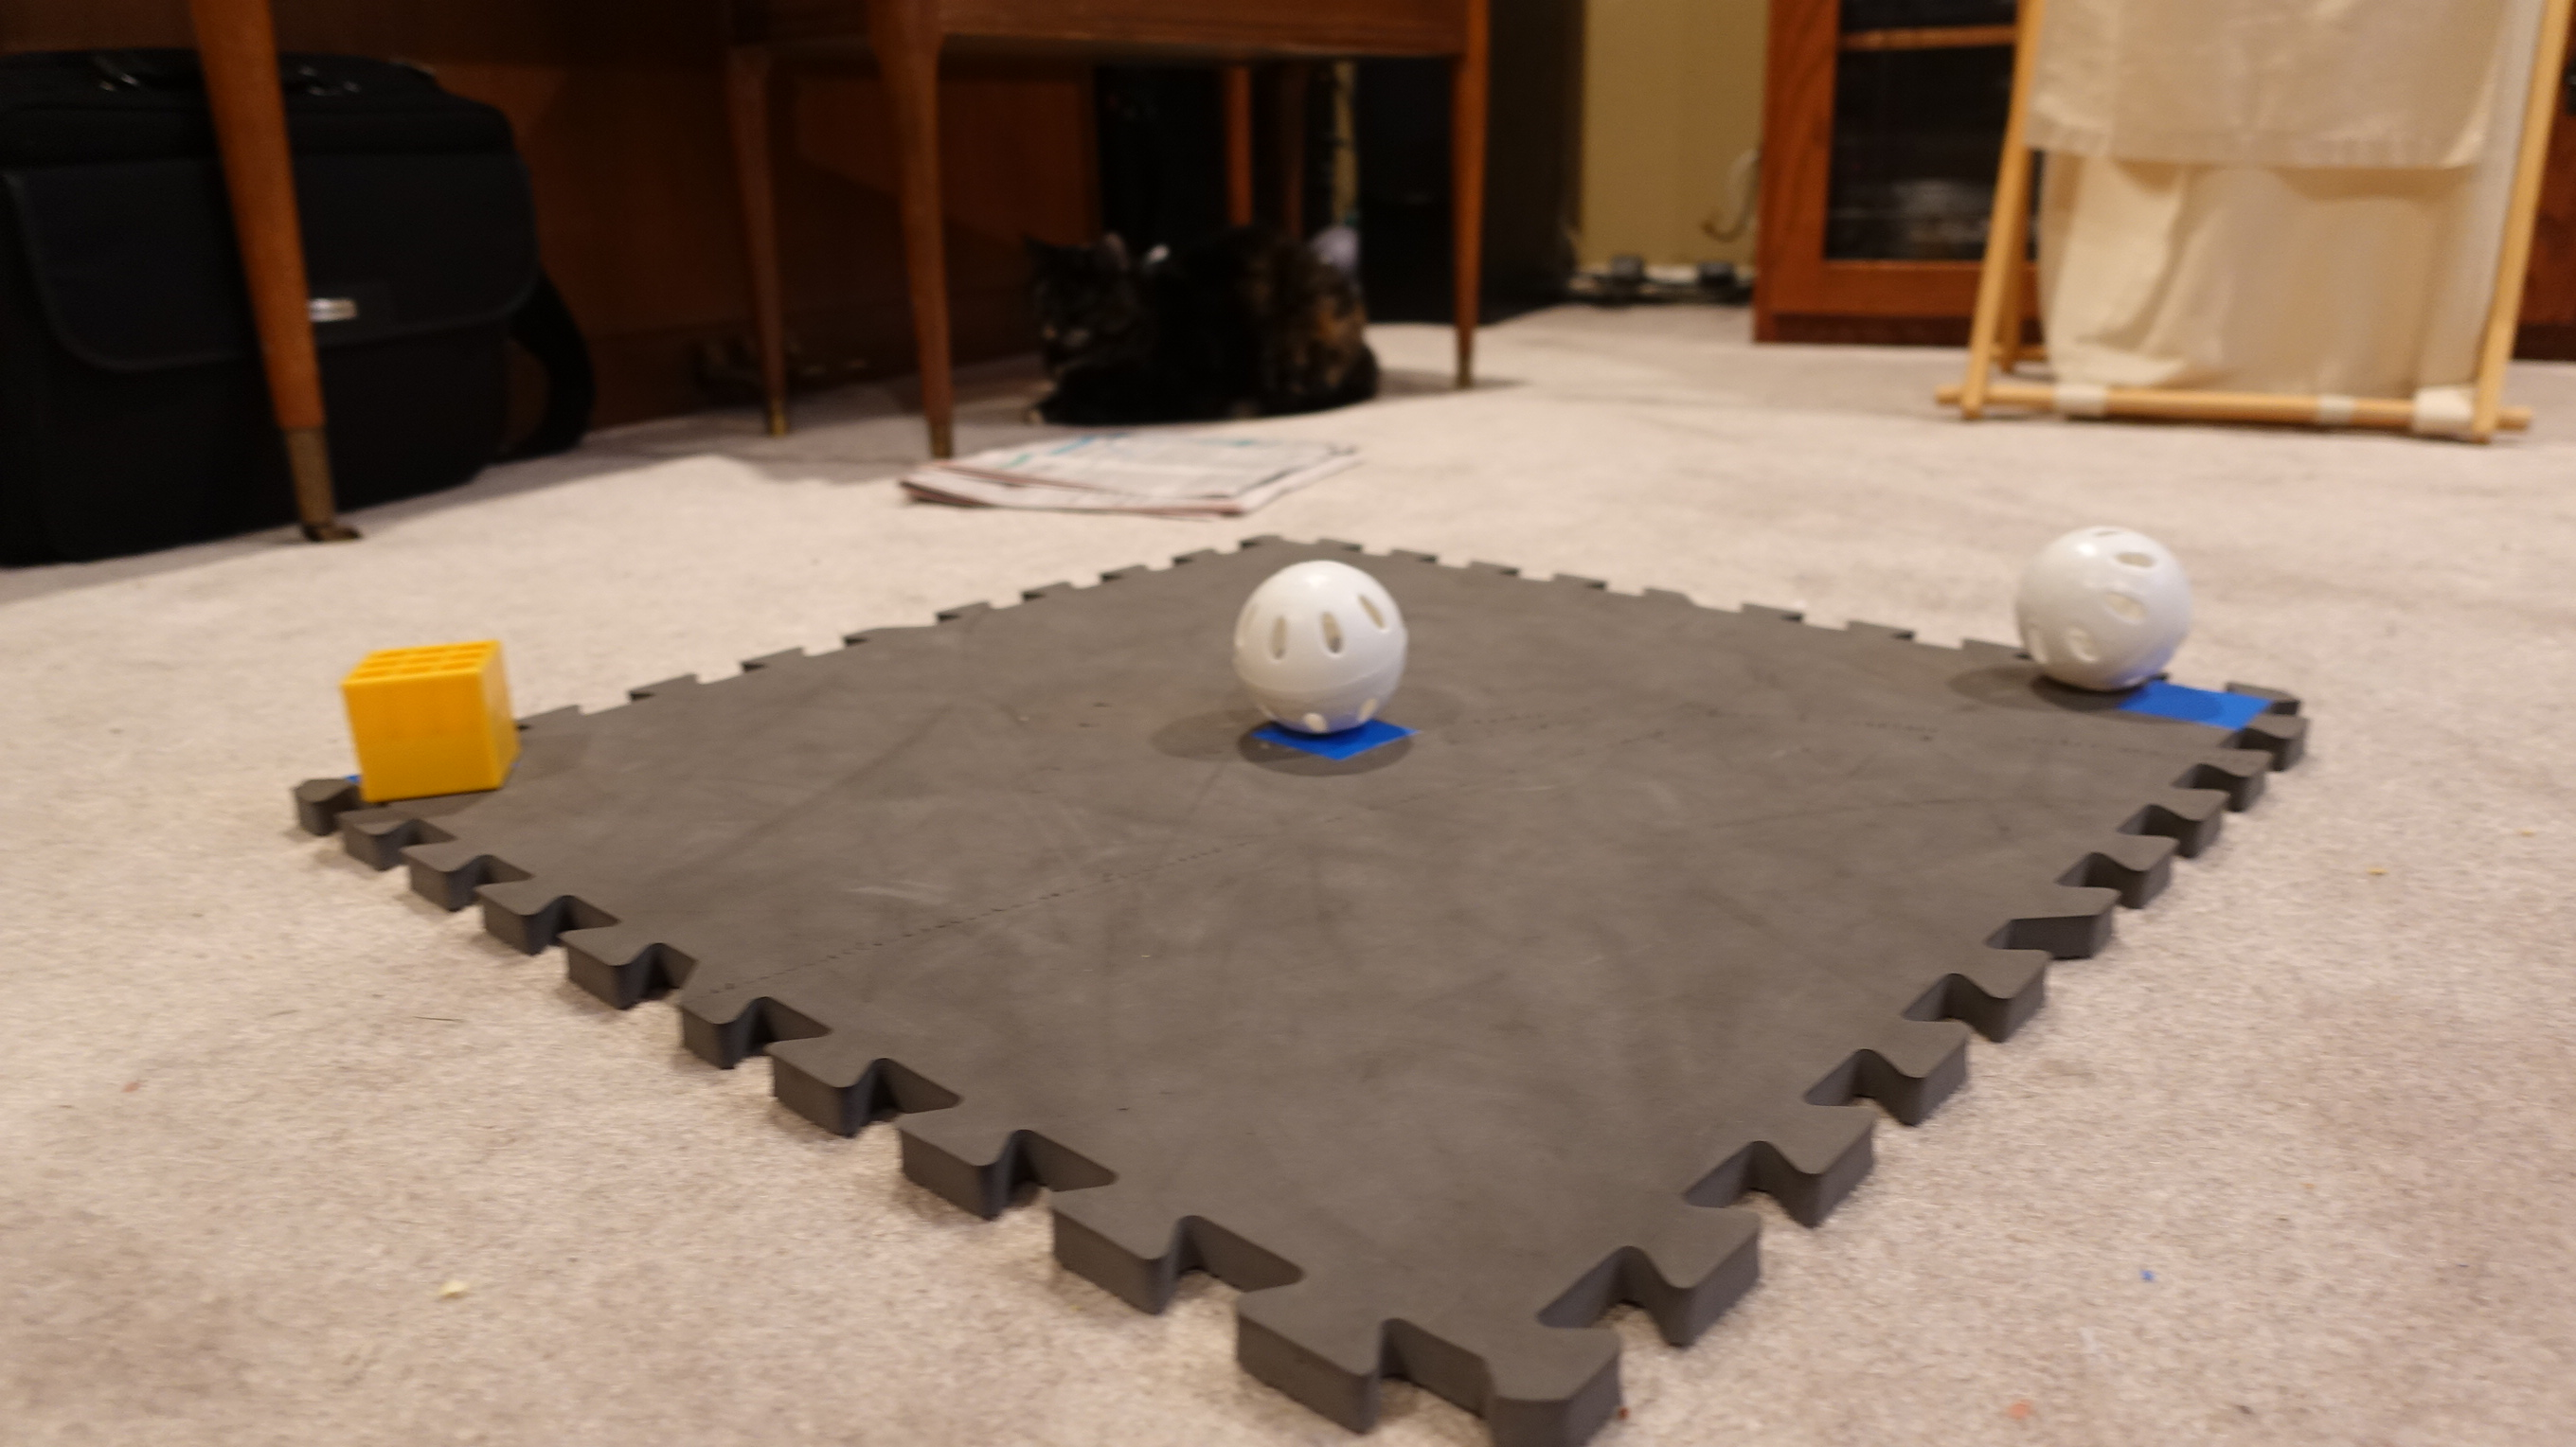gold: (329, 628, 538, 812)
silver: (1219, 550, 1424, 745), (2006, 517, 2194, 697)
